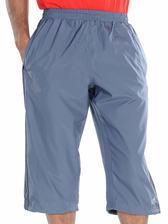clothoes: (15, 7, 168, 219)
